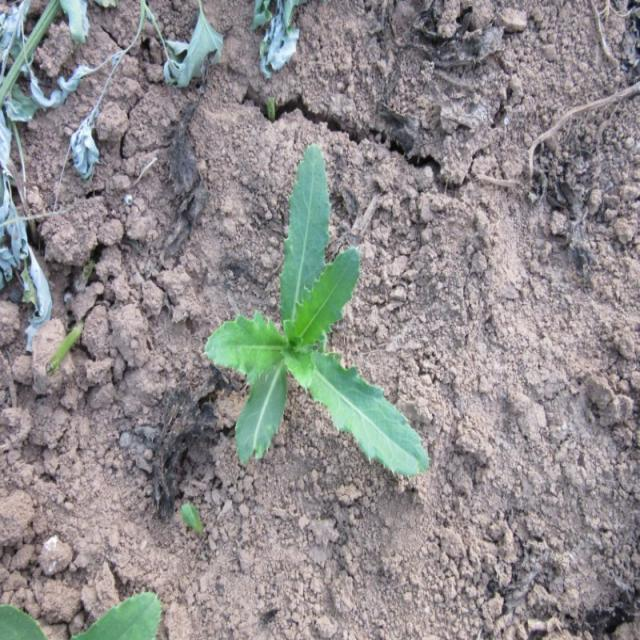cs: (205, 138, 432, 481)
